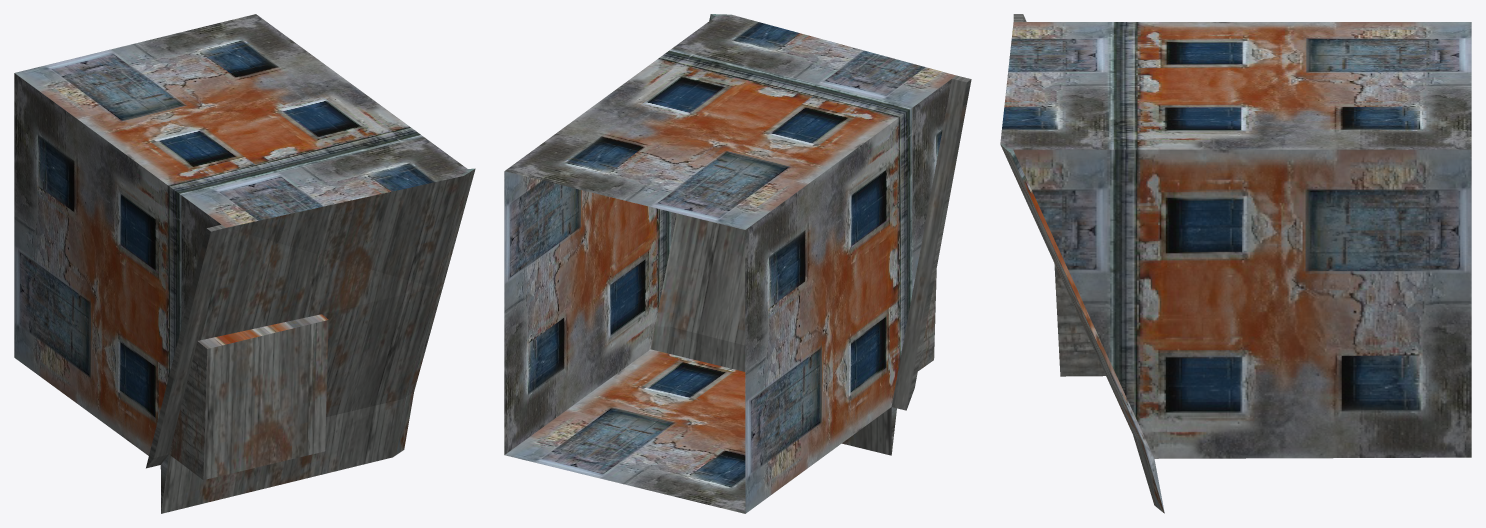
File: houseduchamp18_wtf.obj
3 views of the same model, side by side, from view 1: azimuth 30°, elevation 25°; view 2: azimuth 150°, elevation 25°; view 3: azimuth 270°, elevation 25° (orthographic). The views are drawn at different scales.
Visible parts, largest first — view 1: group2; view 2: group2; view 3: group2.
Boxes of the visible parts, <box> form: group2: <box>14,14,475,513</box>; group2: <box>504,14,971,513</box>; group2: <box>1000,14,1471,513</box>.
Size of the model in its own units: 460 by 558 by 660.
